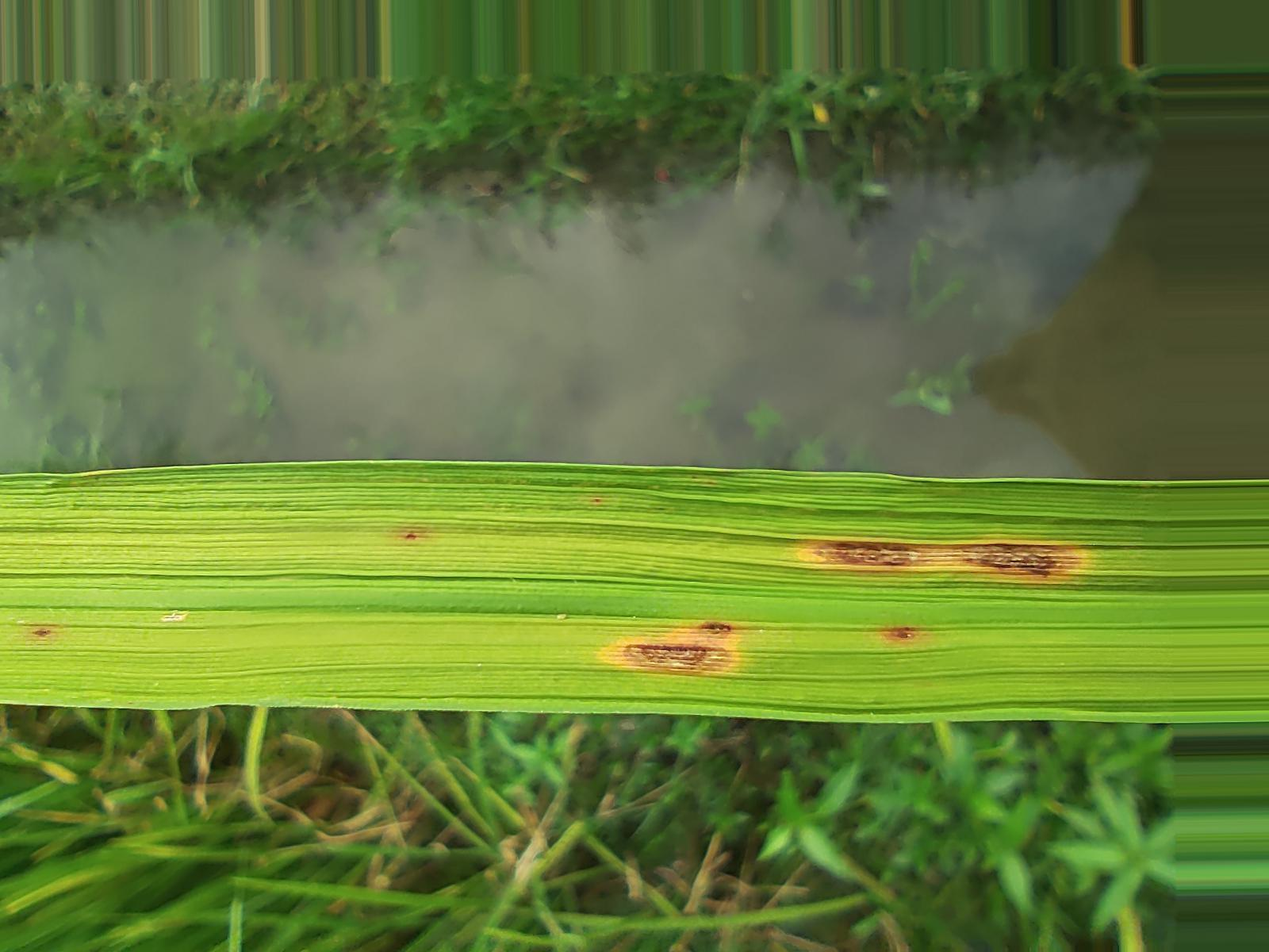LEAF: (0, 461, 1156, 722)
NBS: (880, 625, 921, 644), (698, 621, 731, 635), (691, 473, 718, 488), (398, 531, 428, 542), (589, 493, 604, 508), (30, 628, 52, 637)
